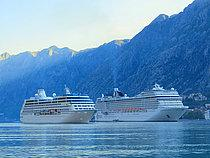Ship: (91, 82, 193, 124), (19, 82, 102, 124)
